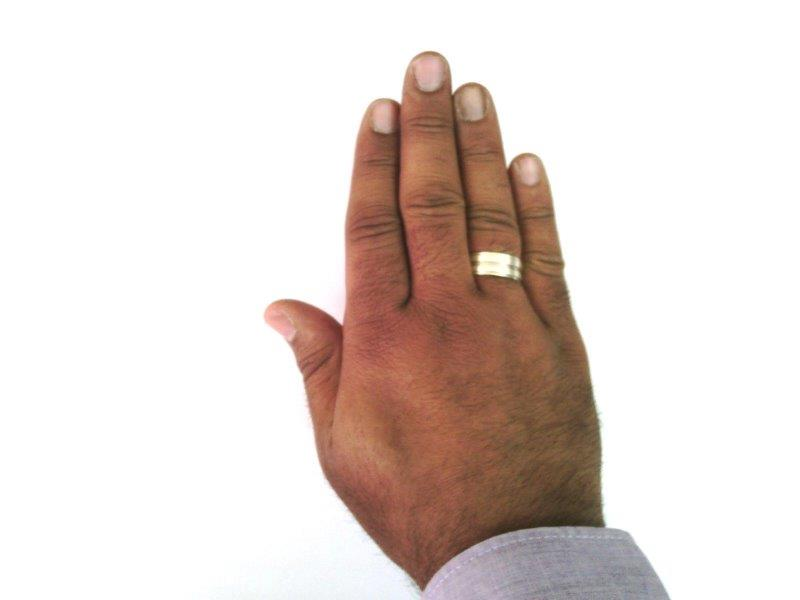hand: (265, 51, 603, 524)
